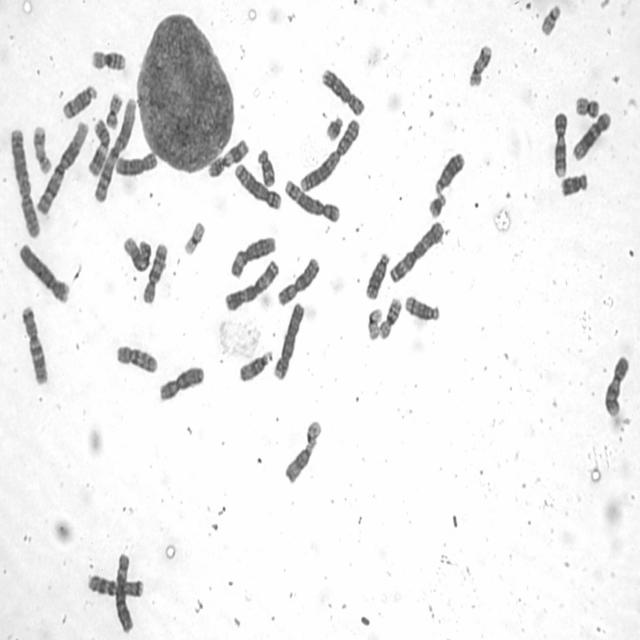A1: (34, 119, 89, 217), (92, 94, 138, 204)
A2: (298, 115, 362, 194), (7, 125, 41, 239)
A3: (387, 217, 446, 285), (222, 256, 281, 314)
B4: (17, 240, 71, 306), (271, 300, 306, 382)
B5: (282, 175, 342, 223), (233, 160, 283, 212)
C10: (140, 240, 170, 305), (114, 342, 159, 375)
C11: (206, 135, 251, 179), (86, 114, 112, 177)
C12: (570, 108, 612, 163), (121, 232, 152, 272)
C6: (228, 231, 278, 281), (113, 550, 135, 634)
C7: (19, 301, 50, 386), (86, 572, 145, 598)
C8: (319, 65, 366, 118), (113, 149, 159, 177)
C9: (601, 352, 632, 420), (550, 108, 570, 180)
D13: (432, 149, 466, 195), (363, 250, 391, 300)
D14: (60, 82, 99, 120), (403, 293, 441, 323)
D15: (237, 347, 274, 384), (284, 443, 314, 486)
E16: (377, 294, 403, 341), (89, 47, 127, 73)
E17: (467, 42, 493, 88), (31, 121, 53, 175)
E18: (255, 145, 277, 189), (558, 170, 588, 198)
F19: (182, 218, 206, 256), (365, 306, 383, 340)
F20: (104, 90, 124, 130), (573, 92, 601, 118)
G21: (322, 113, 344, 143), (427, 190, 447, 219)
G22: (540, 2, 562, 37), (306, 419, 323, 447)
X: (275, 254, 323, 307), (157, 363, 205, 404)
